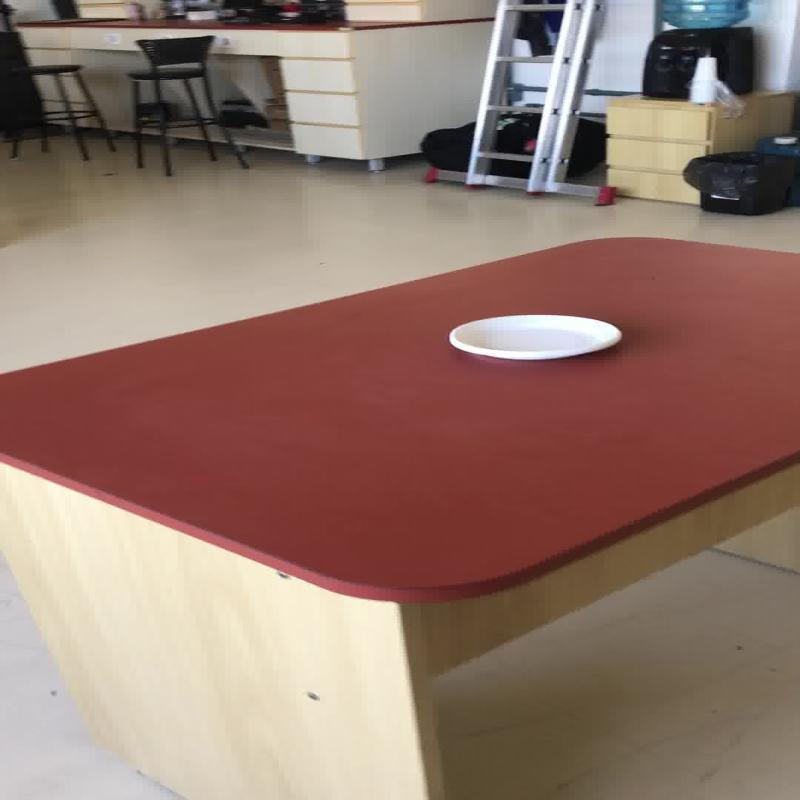plate: (446, 312, 620, 360)
